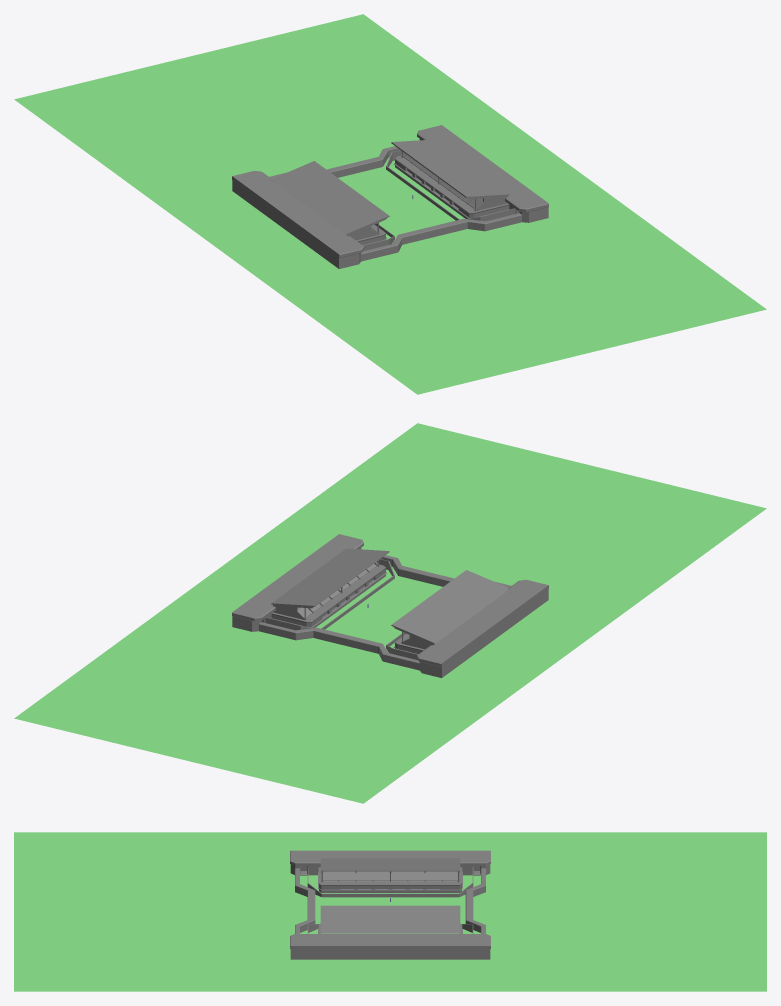
File: tns_Field_a.glb
The picture shows the model from 3 angles, top to bottom: view 1: azimuth 30°, elevation 25°; view 2: azimuth 150°, elevation 25°; view 3: azimuth 270°, elevation 25°; orthographic projection. The views are drawn at different scales.
Parts seen in each view (by area): view 1: collision_0x0001, collision_0x0002; view 2: collision_0x0001, collision_0x0002; view 3: collision_0x0001, collision_0x0002.
Boxes of the visible parts, x1,y1,x2,y2 form: collision_0x0001: [14, 14, 766, 394]; collision_0x0002: [232, 125, 548, 268]; collision_0x0001: [14, 423, 766, 803]; collision_0x0002: [232, 534, 548, 677]; collision_0x0001: [14, 832, 766, 991]; collision_0x0002: [290, 850, 490, 959].
Bounding box in the file's own units: 1000 × 69.96 × 2000.
